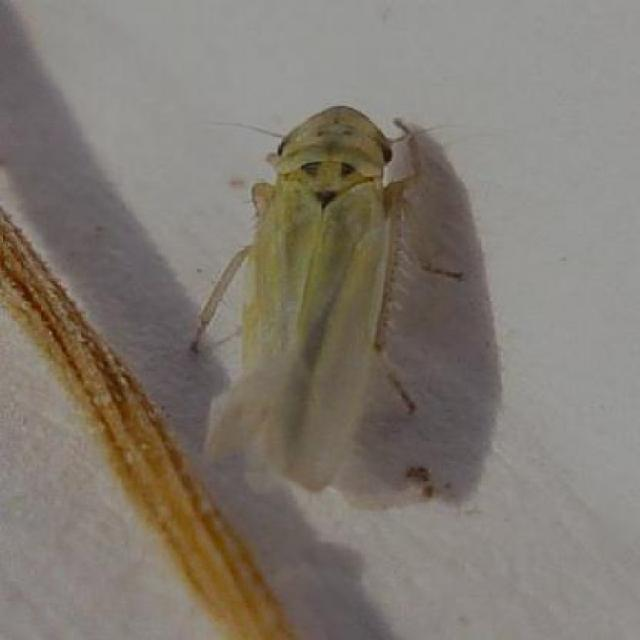green-leafhopper: (206, 105, 448, 503)
